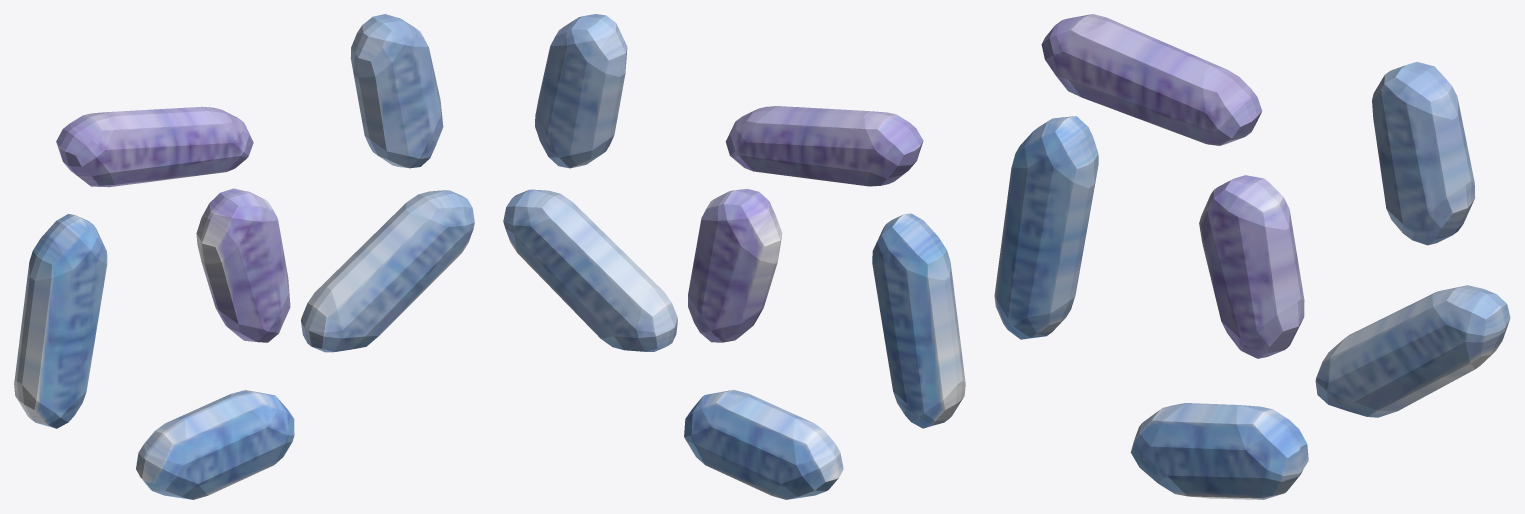
File: pills.fbx
The picture shows the model from 3 angles, left to right: view 1: azimuth 30°, elevation 25°; view 2: azimuth 150°, elevation 25°; view 3: azimuth 330°, elevation 25°; orthographic projection. The views are drawn at different scales.
Visible parts, largest first — view 1: alvedon.002, alvedon.001, alvedon.005, alvedon, alvedon.003, alvedon.004; view 2: alvedon.002, alvedon.001, alvedon.005, alvedon, alvedon.003, alvedon.004; view 3: alvedon.001, alvedon.005, alvedon.002, alvedon.003, alvedon.004, alvedon.
Boxes of the visible parts, <box> form: alvedon.002: <box>301,190,474,352</box>; alvedon.001: <box>14,214,107,428</box>; alvedon.005: <box>56,106,253,187</box>; alvedon: <box>136,390,294,499</box>; alvedon.003: <box>196,188,290,342</box>; alvedon.004: <box>350,14,443,168</box>; alvedon.002: <box>503,189,677,351</box>; alvedon.001: <box>872,213,965,428</box>; alvedon.005: <box>725,106,923,186</box>; alvedon: <box>684,389,843,499</box>; alvedon.003: <box>688,188,782,342</box>; alvedon.004: <box>535,14,627,168</box>; alvedon.001: <box>994,116,1098,339</box>; alvedon.005: <box>1041,14,1262,145</box>; alvedon.002: <box>1315,285,1510,417</box>; alvedon.003: <box>1199,175,1304,358</box>; alvedon.004: <box>1372,62,1475,245</box>; alvedon: <box>1130,403,1308,499</box>.
Size of the model in its own units: 78.77 by 71.69 by 8.96.
